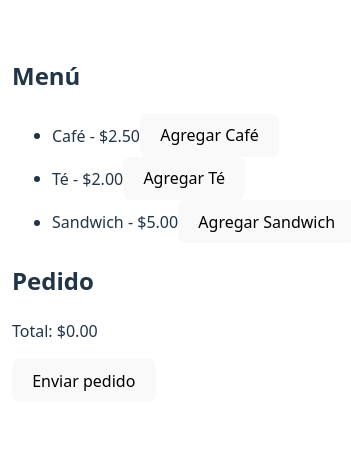
Test: elimina un producto del pedido sin borrar todo
Click the button "Agregar Café".
click(210, 135)  # box [140,114,279,157]
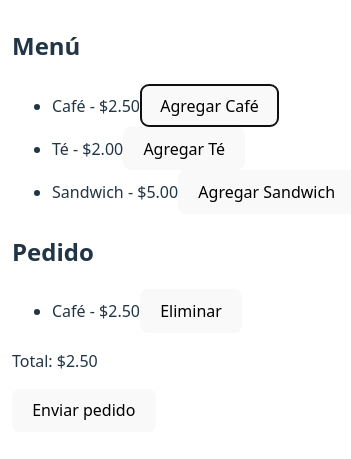
Click the button "Agregar Té".
click(184, 149)  # box [123,127,245,170]
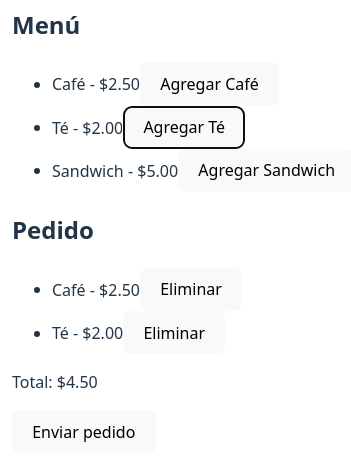
expect the list named "pedido" shows "Café": met, box [52,278,86,300]
expect the list named "pedido" shows "Té": met, box [52,322,69,344]
Click the 2nd button "Eliminar".
click(174, 333)  # box [123,311,225,354]
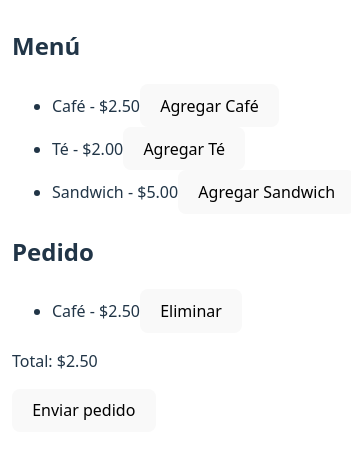
expect the list named "pedido" does not show "Té": met, box [52,289,242,333]
expect the list named "pedido" shows "Café": met, box [52,300,86,322]
expect the text "Total: $2.50" is shown: met, box [12,350,98,372]
